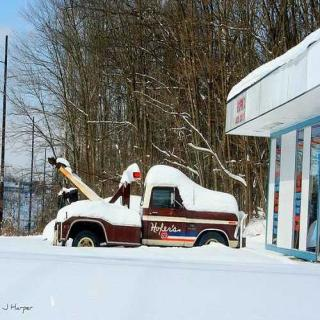Towing_truck: (44, 155, 247, 250)
